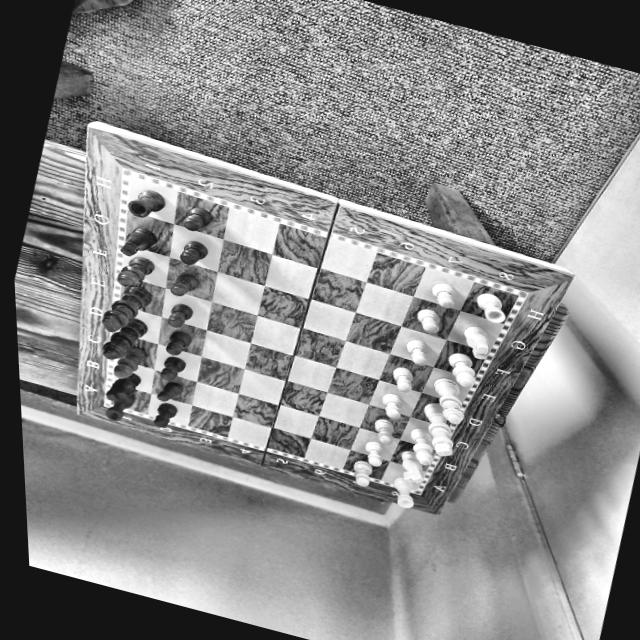black-bishop: (107, 248, 162, 294), (107, 340, 154, 386)
black-king: (95, 277, 159, 342)
black-knight: (101, 364, 149, 409), (113, 221, 162, 263)
black-pawn: (175, 200, 220, 238), (173, 234, 216, 272), (165, 268, 205, 302), (161, 298, 199, 332), (161, 326, 196, 360), (155, 352, 190, 384), (148, 400, 183, 432), (153, 377, 187, 407)
black-queen: (96, 310, 154, 368)
black-rook: (121, 182, 172, 224), (100, 386, 140, 426)
white-bishop: (439, 348, 487, 392), (402, 423, 445, 470)
white-king: (410, 398, 468, 459)
white-knight: (390, 446, 434, 488), (456, 322, 499, 362)
white-pawn: (408, 302, 450, 339), (399, 334, 440, 371), (424, 276, 465, 312), (343, 456, 381, 494), (384, 362, 424, 396), (366, 414, 402, 447), (376, 390, 410, 422), (359, 441, 392, 471)
white-queen: (420, 374, 479, 429)
white-rook: (468, 286, 515, 328), (384, 472, 425, 512)
